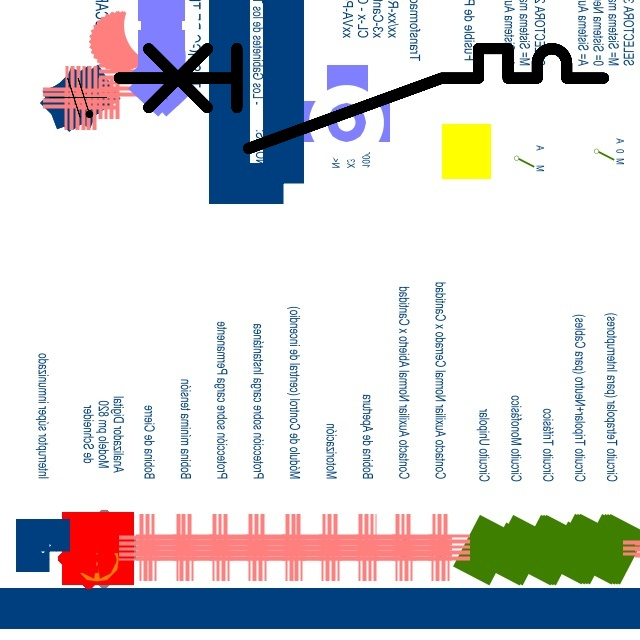interruptor_termomagnetico: (106, 36, 615, 160)
